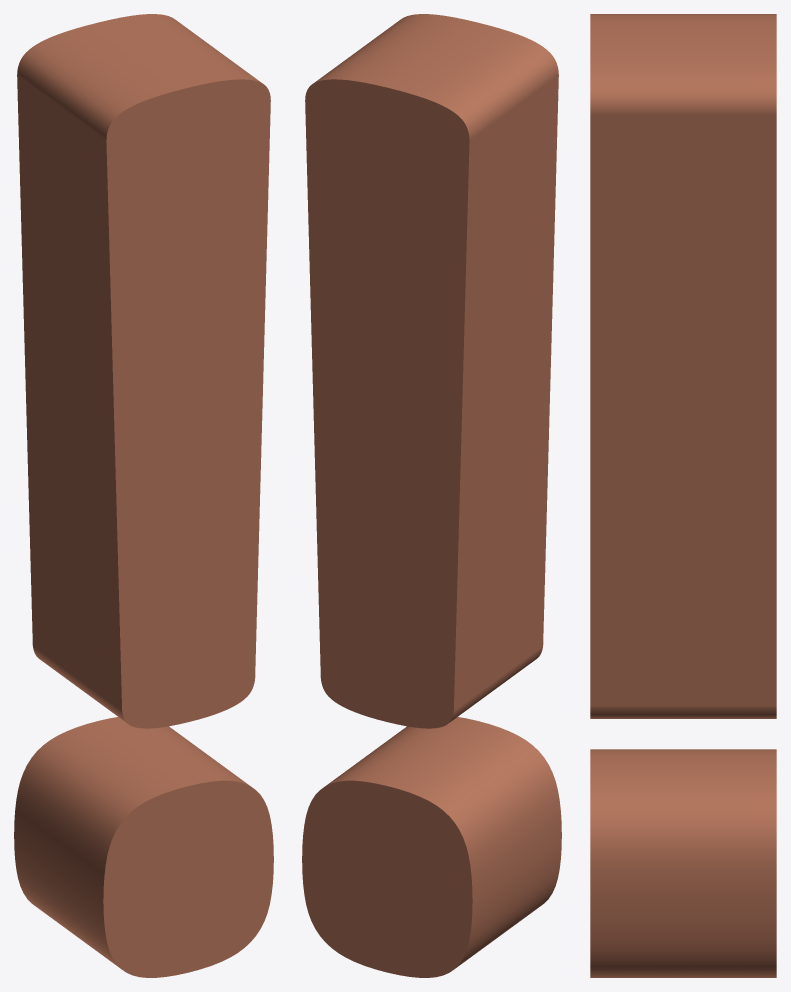
The model's file is Danger.fbx.
The picture shows the model from 3 angles, left to right: view 1: azimuth 30°, elevation 25°; view 2: azimuth 150°, elevation 25°; view 3: azimuth 270°, elevation 25°; orthographic projection. The views are drawn at different scales.
Visible parts, largest first — view 1: Danger1; view 2: Danger1; view 3: Danger1.
Boxes of the visible parts, x1,y1,x2,y2 form: Danger1: (14,14,273,977); Danger1: (302,14,561,977); Danger1: (590,14,776,977).
Size of the model in its own units: 2.75 by 13.66 by 2.5.
